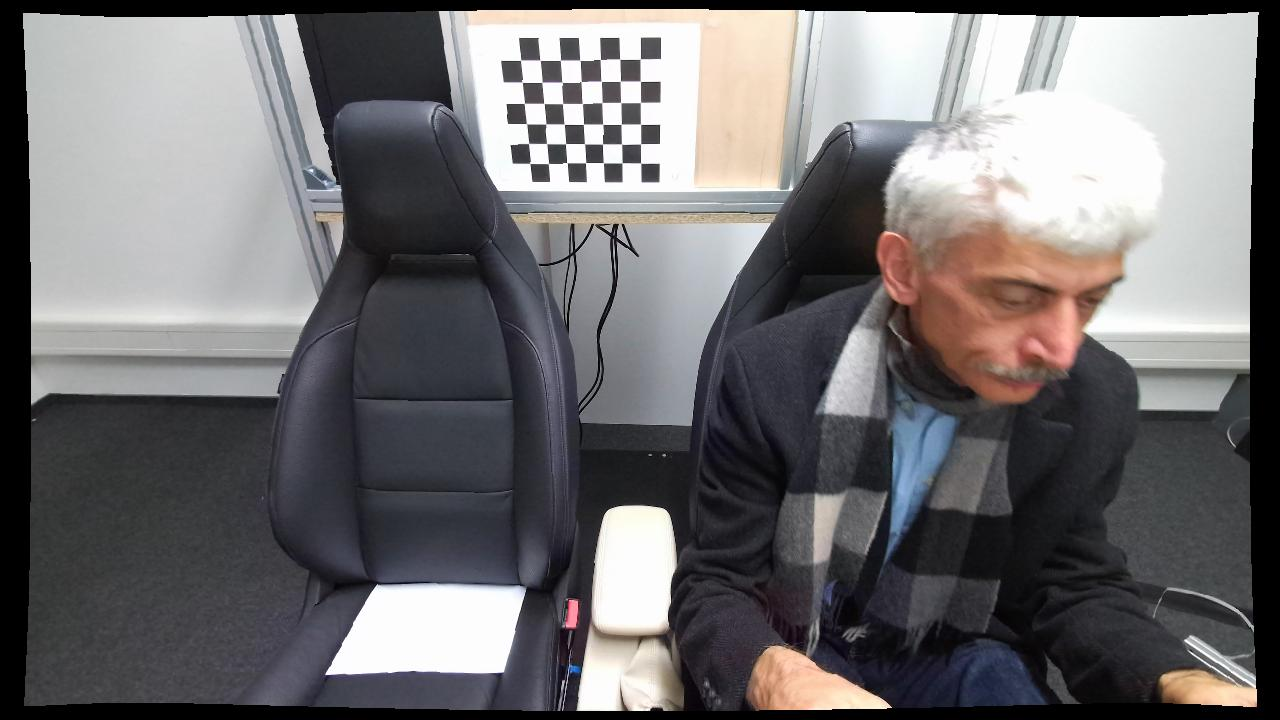Distracted: (666, 84, 1173, 717)
